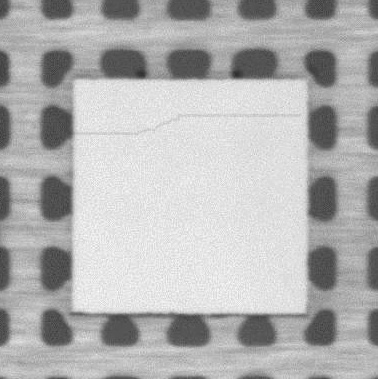DIE_CRACK: (74, 112, 306, 137)
